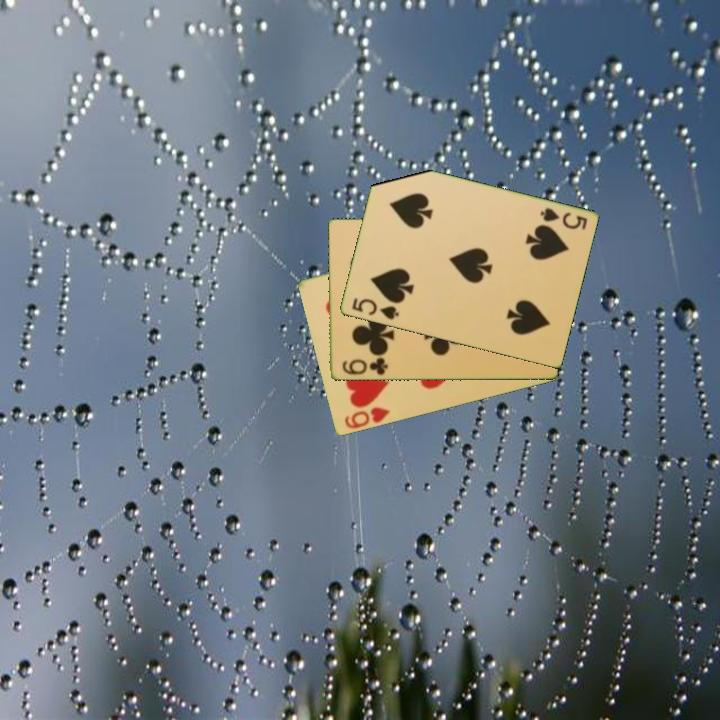5s: (348, 294, 402, 323), (536, 204, 590, 233)
6c: (339, 354, 390, 378)
6h: (341, 404, 393, 432)
